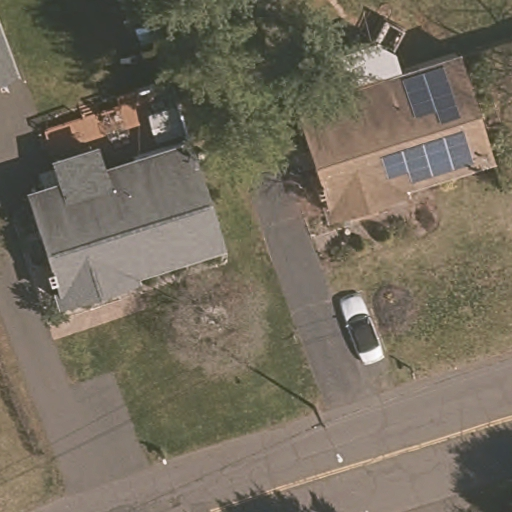DT: (310, 403, 348, 471)
